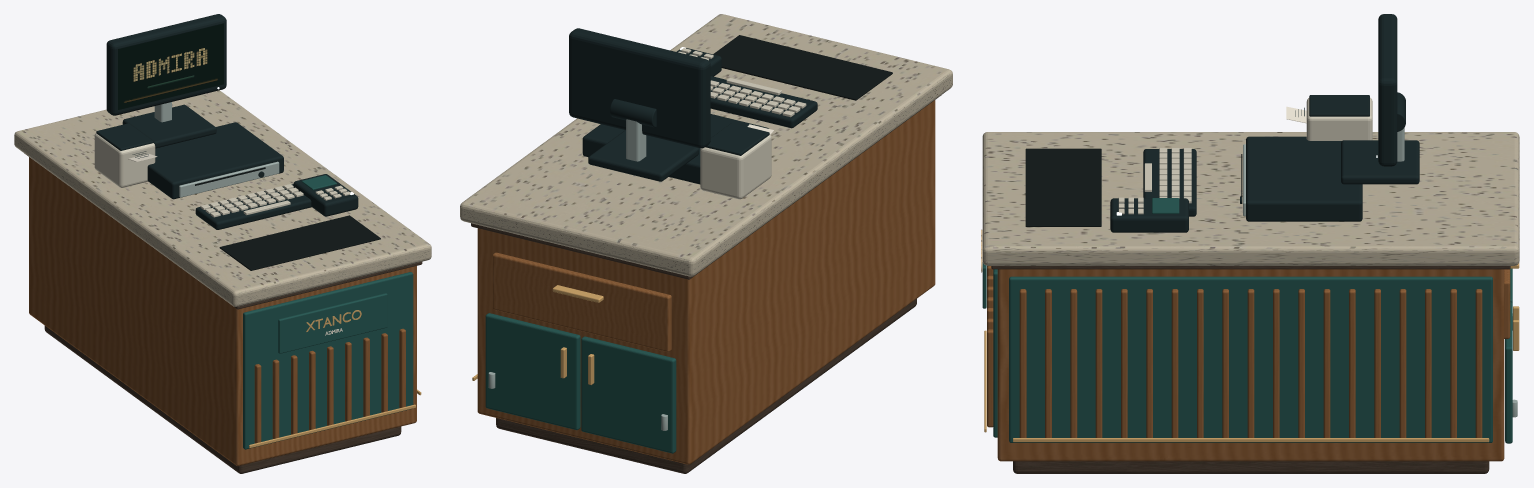
Rendered from counter-interpreted-hiperreal.glb.
3 views of the same model, side by side, from view 1: azimuth 30°, elevation 25°; view 2: azimuth 150°, elevation 25°; view 3: azimuth 270°, elevation 25° (orthographic). The views are drawn at different scales.
Visible parts, largest first — view 1: cabinet_body, solid_terrazzo_worktop, front_teal_panel, screen_tpv_main, cash_drawer_shell, packing_mat, brand_nameplate, tpv_bezel, cabinet_plinth, tpv_weighted_base, receipt_printer_body, keyboard_body (+14 smaller); view 2: cabinet_body, solid_terrazzo_worktop, tpv_bezel, rear_service_drawer, rear_service_door_0, rear_service_door_1, packing_mat, cabinet_plinth, receipt_printer_body, tpv_weighted_base, keyboard_body, cash_drawer_shell (+4 smaller); view 3: side_teal_panel, solid_terrazzo_worktop, cabinet_body, cash_drawer_shell, cabinet_plinth, packing_mat, tpv_bezel, tpv_weighted_base, side_brass_inlay, card_terminal_base, worktop_shadow_seam, receipt_printer_body (+24 smaller).
Boxes of the visible parts, x1=… form: cabinet_body: x1=29, y1=157, x2=416, y2=465; solid_terrazzo_worktop: x1=14, y1=90, x2=431, y2=306; front_teal_panel: x1=243, y1=272, x2=413, y2=449; screen_tpv_main: x1=118, y1=23, x2=223, y2=109; cash_drawer_shell: x1=147, y1=122, x2=283, y2=199; packing_mat: x1=219, y1=215, x2=380, y2=270; brand_nameplate: x1=278, y1=293, x2=387, y2=353; tpv_bezel: x1=106, y1=14, x2=226, y2=115; cabinet_plinth: x1=44, y1=325, x2=401, y2=473; tpv_weighted_base: x1=122, y1=104, x2=216, y2=148; receipt_printer_body: x1=94, y1=133, x2=155, y2=187; keyboard_body: x1=195, y1=184, x2=311, y2=229; cabinet_body: x1=477, y1=100, x2=935, y2=464; solid_terrazzo_worktop: x1=460, y1=14, x2=952, y2=276; tpv_bezel: x1=569, y1=28, x2=710, y2=148; rear_service_drawer: x1=492, y1=252, x2=671, y2=352; rear_service_door_0: x1=581, y1=336, x2=676, y2=453; rear_service_door_1: x1=485, y1=313, x2=580, y2=430; packing_mat: x1=713, y1=35, x2=892, y2=100; cabinet_plinth: x1=496, y1=299, x2=916, y2=473; receipt_printer_body: x1=700, y1=135, x2=771, y2=199; tpv_weighted_base: x1=588, y1=130, x2=698, y2=181; keyboard_body: x1=710, y1=76, x2=817, y2=128; cash_drawer_shell: x1=582, y1=114, x2=768, y2=184; side_teal_panel: x1=1009, y1=276, x2=1492, y2=442; solid_terrazzo_worktop: x1=982, y1=132, x2=1519, y2=265; cabinet_body: x1=997, y1=269, x2=1504, y2=461; cash_drawer_shell: x1=1246, y1=136, x2=1362, y2=221; cabinet_plinth: x1=1013, y1=461, x2=1489, y2=473; packing_mat: x1=1025, y1=148, x2=1101, y2=226; tpv_bezel: x1=1378, y1=14, x2=1397, y2=166; tpv_weighted_base: x1=1341, y1=140, x2=1419, y2=184; side_brass_inlay: x1=1013, y1=438, x2=1489, y2=442; card_terminal_base: x1=1110, y1=198, x2=1188, y2=232; worktop_shadow_seam: x1=991, y1=266, x2=1510, y2=269; receipt_printer_body: x1=1306, y1=97, x2=1372, y2=140.
Bounding box in the file's own units: 1.1 × 1.66 × 2.12.
12 materials, 4 textured.
